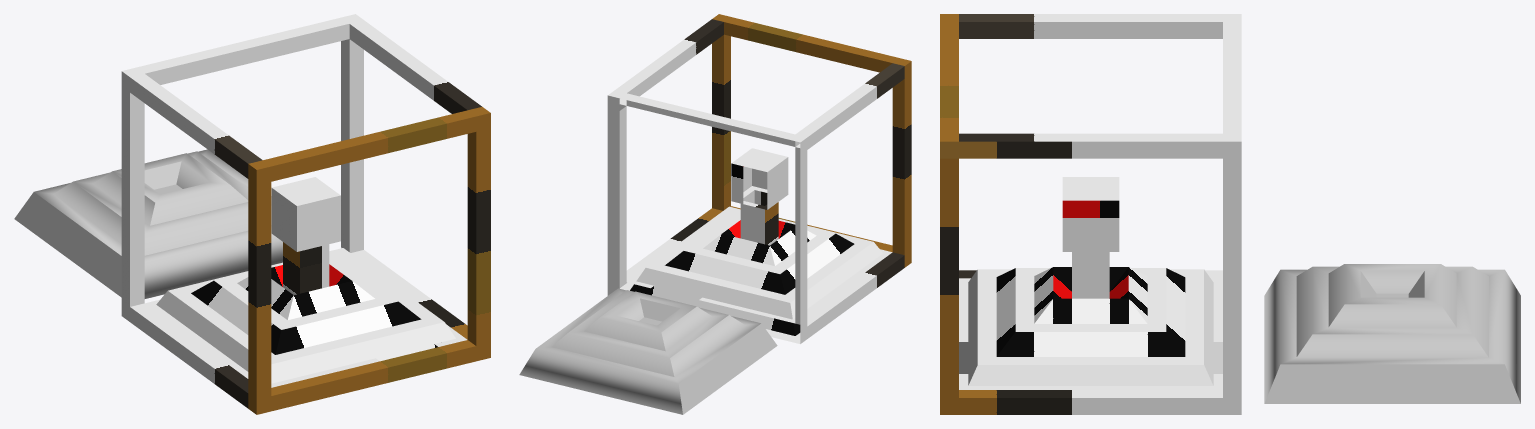
Rendered from item_panel.obj.
3 views of the same model, side by side, from view 1: azimuth 30°, elevation 25°; view 2: azimuth 150°, elevation 25°; view 3: azimuth 270°, elevation 25° (orthographic). The views are drawn at different scales.
Visible parts, largest first — view 1: Cube_Cube.001, Cube.001_Cube.002, Cube; view 2: Cube_Cube.001, Cube.001_Cube.002, Cube; view 3: Cube_Cube.001, Cube.001_Cube.002, Cube.
Part boxes in pixels (x1=…): Cube_Cube.001: x1=121, y1=14, x2=490, y2=414; Cube.001_Cube.002: x1=14, y1=149, x2=282, y2=298; Cube: x1=156, y1=248, x2=455, y2=383; Cube_Cube.001: x1=607, y1=14, x2=911, y2=343; Cube.001_Cube.002: x1=519, y1=288, x2=777, y2=414; Cube: x1=630, y1=206, x2=882, y2=335; Cube_Cube.001: x1=940, y1=14, x2=1241, y2=414; Cube.001_Cube.002: x1=1264, y1=264, x2=1520, y2=403; Cube: x1=959, y1=267, x2=1222, y2=385.
Bounding box in the file's own units: 1 × 1 × 1.93.
